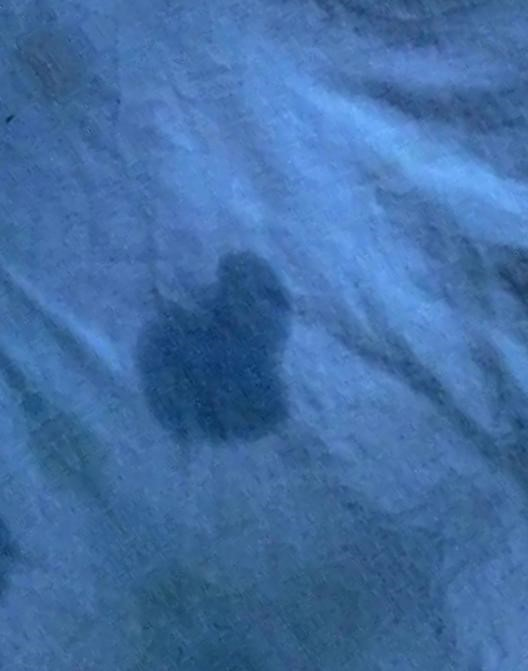stain: (130, 247, 307, 455)
